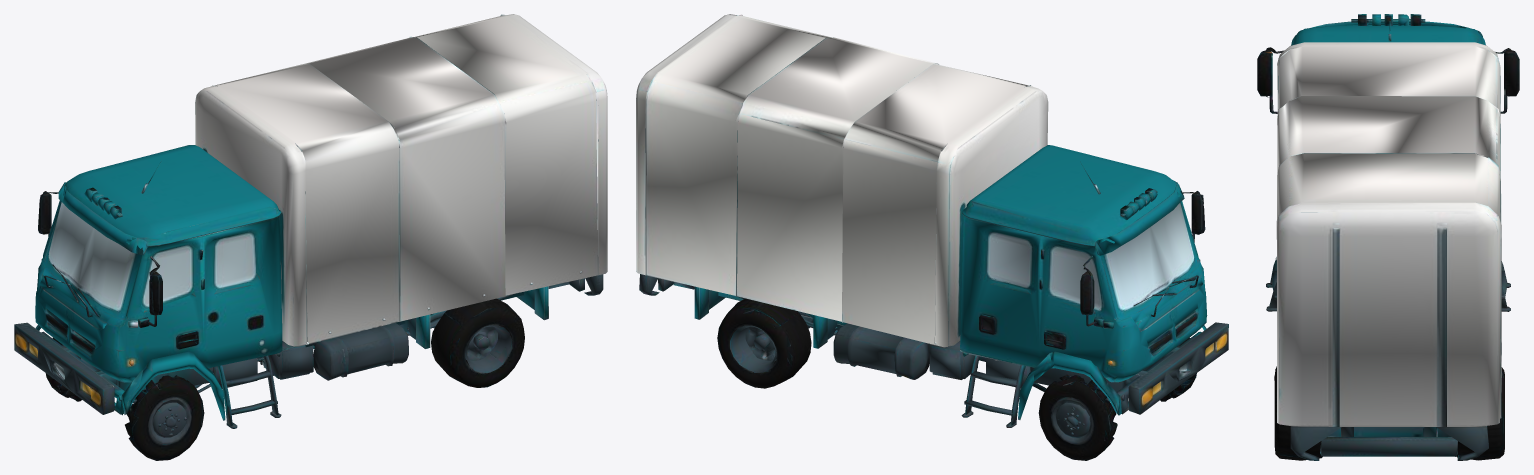
Rendered from trafficBoxtruck.9c1d690d.glb.
3 renders of one model, left to right at view 1: azimuth 30°, elevation 25°; view 2: azimuth 150°, elevation 25°; view 3: azimuth 270°, elevation 25°, orthographic. The views are drawn at different scales.
Size of the model in its own units: 0.957 by 0.5107 by 0.3882.
1 material, 1 textured.
